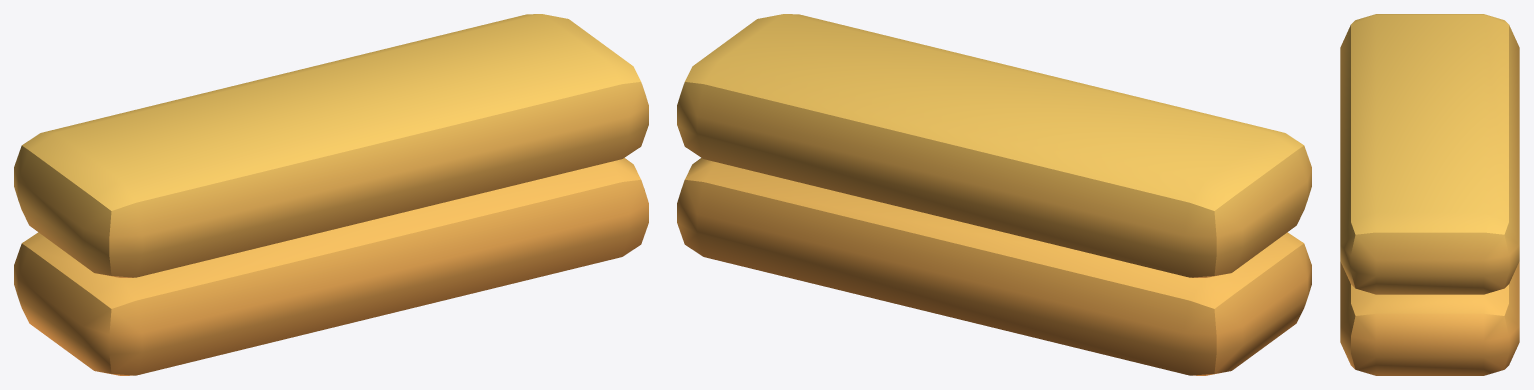
Rendered from kaykit_barrier_3x1x1_yellow.glb.
3 renders of one model, left to right at view 1: azimuth 30°, elevation 25°; view 2: azimuth 150°, elevation 25°; view 3: azimuth 270°, elevation 25°, orthographic. The views are drawn at different scales.
Parts seen in each view (by area): view 1: barrier_3x1x1_yellow_visual; view 2: barrier_3x1x1_yellow_visual; view 3: barrier_3x1x1_yellow_visual.
Boxes of the visible parts, bbox=[...] form: barrier_3x1x1_yellow_visual: bbox=[14, 14, 648, 375]; barrier_3x1x1_yellow_visual: bbox=[677, 14, 1311, 375]; barrier_3x1x1_yellow_visual: bbox=[1340, 14, 1519, 375].
Size of what is drawn, in the model's own units: 3 by 1 by 1.
1 material, 1 textured.
